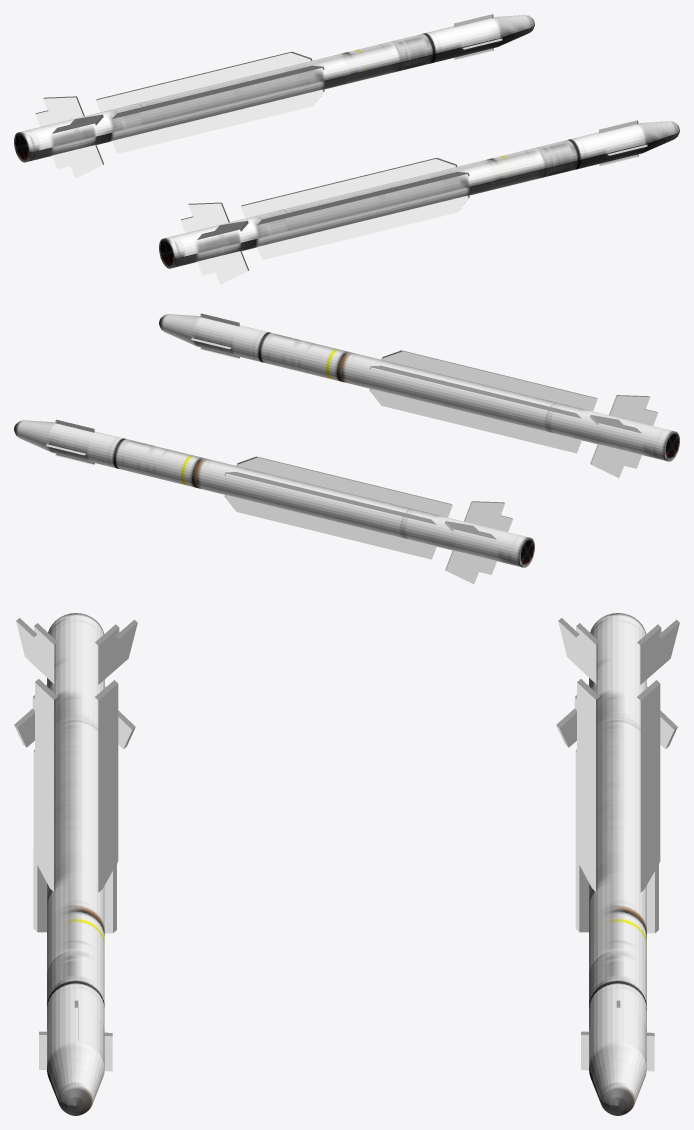
The model's file is m20dmicair34.glb.
3 views of the same model, one above another, from view 1: azimuth 30°, elevation 25°; view 2: azimuth 150°, elevation 25°; view 3: azimuth 270°, elevation 25° (orthographic). The views are drawn at different scales.
Parts seen in each view (by area): view 1: 円柱.008, 円柱.009; view 2: 円柱.009, 円柱.008; view 3: 円柱.008, 円柱.009.
Boxes of the visible parts, x1,y1,x2,y2 form: 円柱.008: [14, 14, 534, 178]; 円柱.009: [159, 120, 679, 284]; 円柱.009: [159, 313, 679, 477]; 円柱.008: [14, 419, 534, 584]; 円柱.008: [556, 613, 679, 1115]; 円柱.009: [14, 613, 137, 1115].
Bounding box in the file's own units: 3.55 × 0.398 × 2.14.
Materials: 1 (1 with a texture image).
